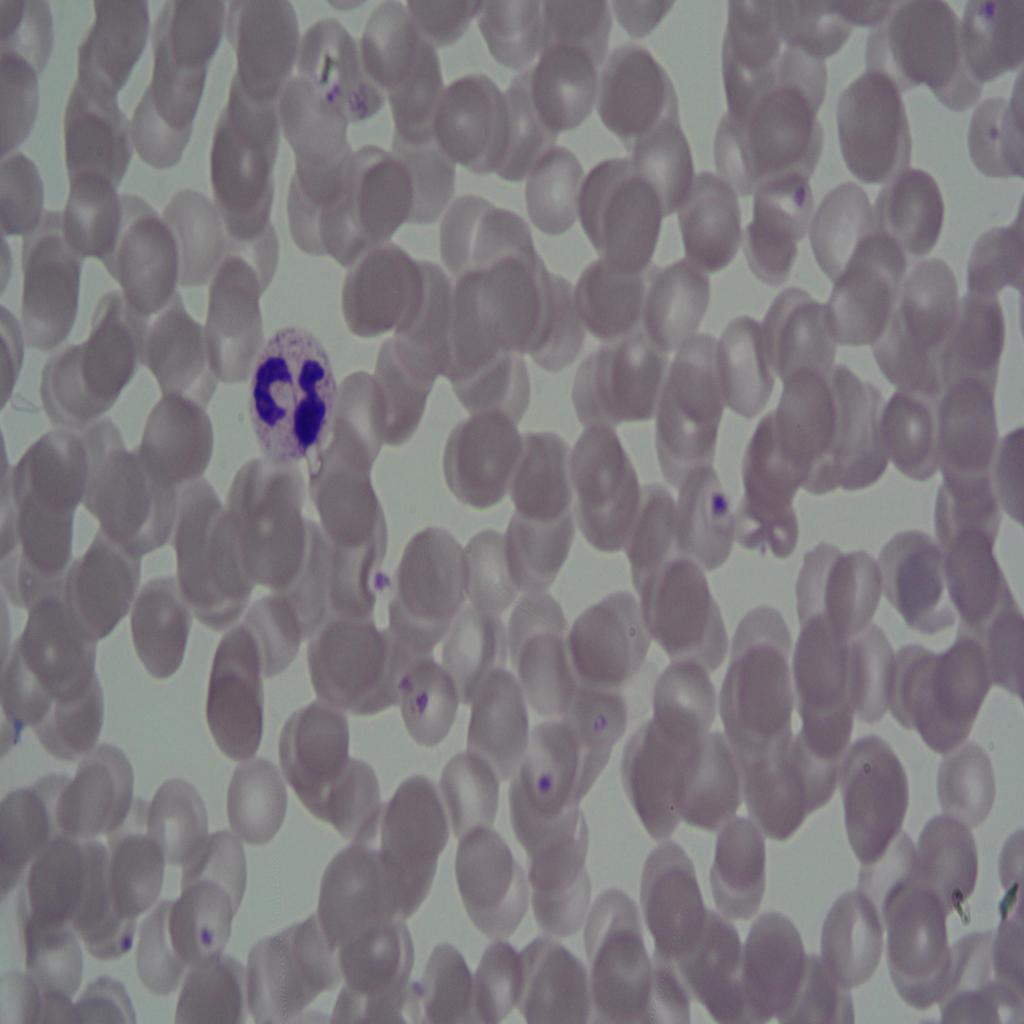Neutrofil: (245, 314, 341, 466)
Platelet: (529, 755, 558, 805), (704, 483, 731, 529), (368, 561, 395, 600), (786, 174, 811, 212), (413, 679, 433, 725), (196, 915, 216, 957), (113, 929, 138, 962), (390, 662, 412, 698), (592, 703, 608, 739), (980, 0, 1000, 28), (985, 114, 1002, 144)
